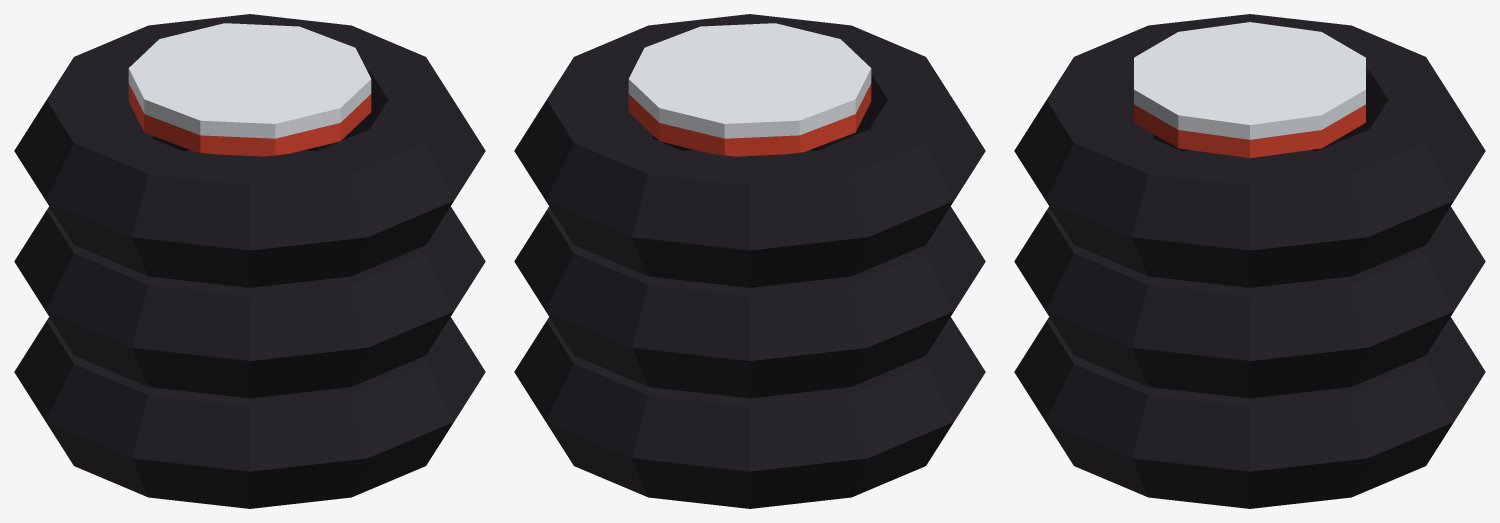
File: tyre_stack.glb
3 renders of one model, left to right at view 1: azimuth 30°, elevation 25°; view 2: azimuth 150°, elevation 25°; view 3: azimuth 270°, elevation 25°, orthographic.
Visible parts, largest first — view 1: tyre_stack_main, tyre_stack_snow; view 2: tyre_stack_main, tyre_stack_snow; view 3: tyre_stack_main, tyre_stack_snow.
Part boxes in pixels (bbox=[...]): tyre_stack_main: bbox=[14, 14, 485, 508]; tyre_stack_snow: bbox=[128, 23, 371, 138]; tyre_stack_main: bbox=[514, 14, 985, 508]; tyre_stack_snow: bbox=[628, 23, 871, 138]; tyre_stack_main: bbox=[1014, 14, 1485, 508]; tyre_stack_snow: bbox=[1134, 22, 1365, 139].
Bounding box in the file's own units: 1.16 × 0.9486 × 1.16.
